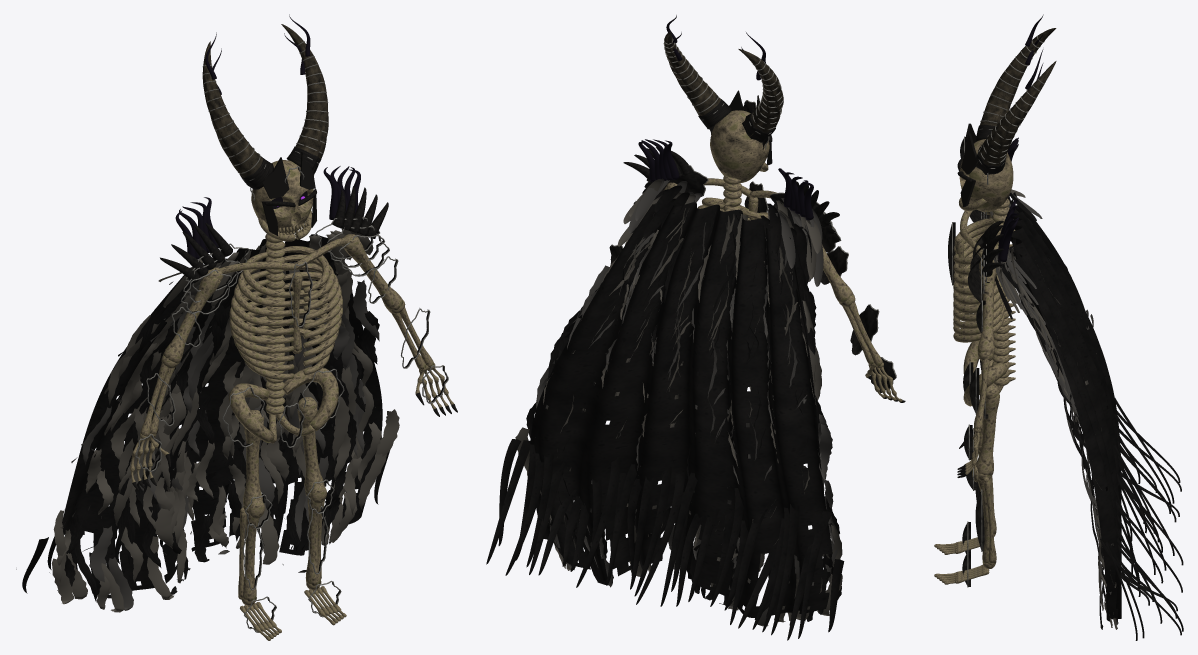
Rendered from Malice.glb.
The picture shows the model from 3 angles, left to right: view 1: azimuth 30°, elevation 25°; view 2: azimuth 150°, elevation 25°; view 3: azimuth 270°, elevation 25°; orthographic projection. The views are drawn at different scales.
Parts seen in each view (by area): view 1: Overlapping tattered feather strips.002, Vast torn cloak foundation, Overlapping tattered feather strips, Overlapping tattered feather strips.001, Left exposed ribs, Right exposed ribs, Pelvic wings, Left great swept horn, Right great swept horn, Articulated vertebral column, Skull • carved hollow cranium, Left pauldron spines (+15 smaller); view 2: Vast torn cloak foundation, Trailing ragged hem, Overlapping tattered feather strips.002, Overlapping tattered feather strips, Overlapping tattered feather strips.001, Skull • carved hollow cranium, Right great swept horn, Left great swept horn, Left dark feather mantle, Left dark feather mantle.001, Right shoulder blackfire, Left shoulder blackfire (+6 smaller); view 3: Vast torn cloak foundation, Trailing ragged hem, Right exposed ribs, Right great swept horn, Left great swept horn, Skull • carved hollow cranium, Overlapping tattered feather strips, Overlapping tattered feather strips.001, Right femur, Right humerus, Overlapping tattered feather strips.002, Articulated vertebral column (+16 smaller).
Boxes of the visible parts, x1=… form: Overlapping tattered feather strips.002: x1=51, y1=241, x2=399, y2=612; Vast torn cloak foundation: x1=62, y1=234, x2=382, y2=598; Overlapping tattered feather strips: x1=57, y1=261, x2=381, y2=602; Overlapping tattered feather strips.001: x1=63, y1=280, x2=380, y2=610; Left exposed ribs: x1=229, y1=252, x2=294, y2=379; Right exposed ribs: x1=282, y1=246, x2=342, y2=375; Pelvic wings: x1=228, y1=366, x2=338, y2=442; Left great swept horn: x1=202, y1=41, x2=262, y2=177; Right great swept horn: x1=281, y1=24, x2=328, y2=170; Articulated vertebral column: x1=265, y1=241, x2=285, y2=414; Skull • carved hollow cranium: x1=251, y1=160, x2=313, y2=233; Left pauldron spines: x1=160, y1=223, x2=232, y2=283; Vast torn cloak foundation: x1=530, y1=202, x2=832, y2=617; Trailing ragged hem: x1=486, y1=439, x2=844, y2=640; Overlapping tattered feather strips.002: x1=515, y1=208, x2=842, y2=622; Overlapping tattered feather strips: x1=526, y1=205, x2=841, y2=621; Overlapping tattered feather strips.001: x1=536, y1=213, x2=838, y2=626; Skull • carved hollow cranium: x1=710, y1=110, x2=769, y2=182; Right great swept horn: x1=664, y1=32, x2=721, y2=115; Left great swept horn: x1=738, y1=49, x2=783, y2=137; Left dark feather mantle: x1=760, y1=203, x2=811, y2=290; Left dark feather mantle.001: x1=766, y1=198, x2=823, y2=286; Right shoulder blackfire: x1=638, y1=139, x2=679, y2=182; Left shoulder blackfire: x1=778, y1=168, x2=813, y2=220; Vast torn cloak foundation: x1=1009, y1=205, x2=1121, y2=621; Trailing ragged hem: x1=1100, y1=398, x2=1183, y2=640; Right exposed ribs: x1=953, y1=234, x2=1004, y2=342; Right great swept horn: x1=976, y1=61, x2=1056, y2=165; Left great swept horn: x1=978, y1=28, x2=1056, y2=140; Skull • carved hollow cranium: x1=959, y1=139, x2=1013, y2=211; Overlapping tattered feather strips: x1=1014, y1=258, x2=1118, y2=629; Overlapping tattered feather strips.001: x1=1020, y1=278, x2=1117, y2=625; Right femur: x1=976, y1=383, x2=999, y2=481; Right humerus: x1=977, y1=258, x2=995, y2=360; Overlapping tattered feather strips.002: x1=1013, y1=219, x2=1117, y2=629; Articulated vertebral column: x1=992, y1=221, x2=1009, y2=385.
Bounding box in the file's own units: 2.85 × 4.47 × 1.81.
Materials: 10 (4 with a texture image).
